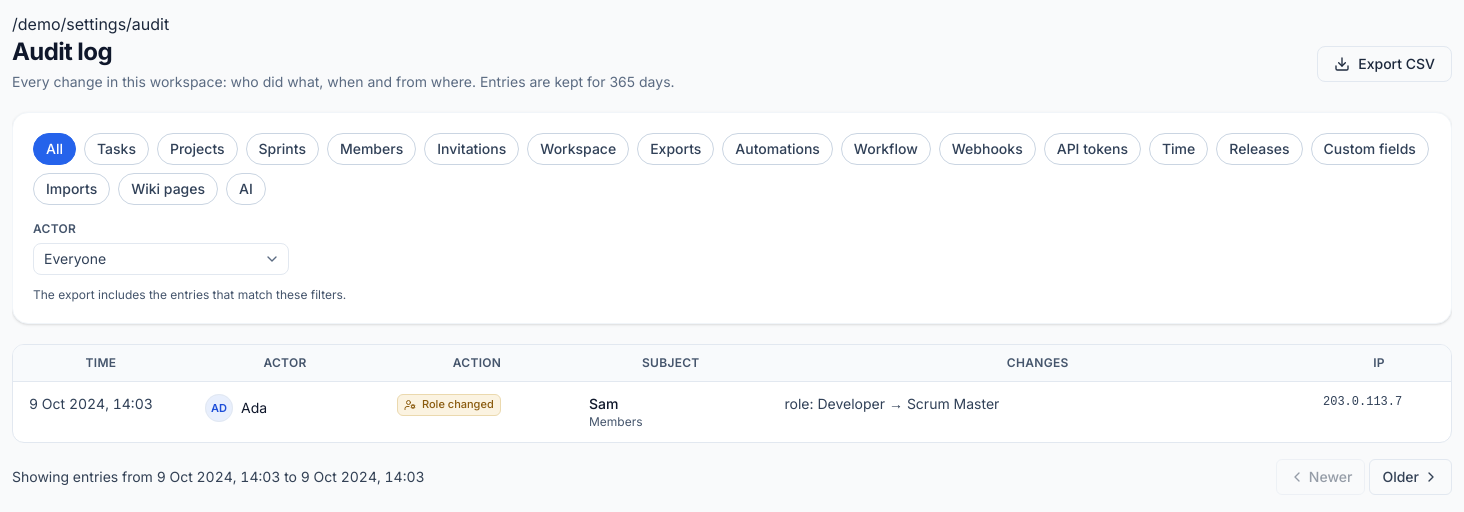
it: AuditLogPage › walks to older entries with the cursor and back to newer ones
The image size is (1464, 512).
Expected: the button "Newer" is disabled, top-left (1276, 459), bottom-right (1365, 495)
Click the button "Older". click: click(1411, 477)
box: top-left (1369, 459), bottom-right (1452, 495)
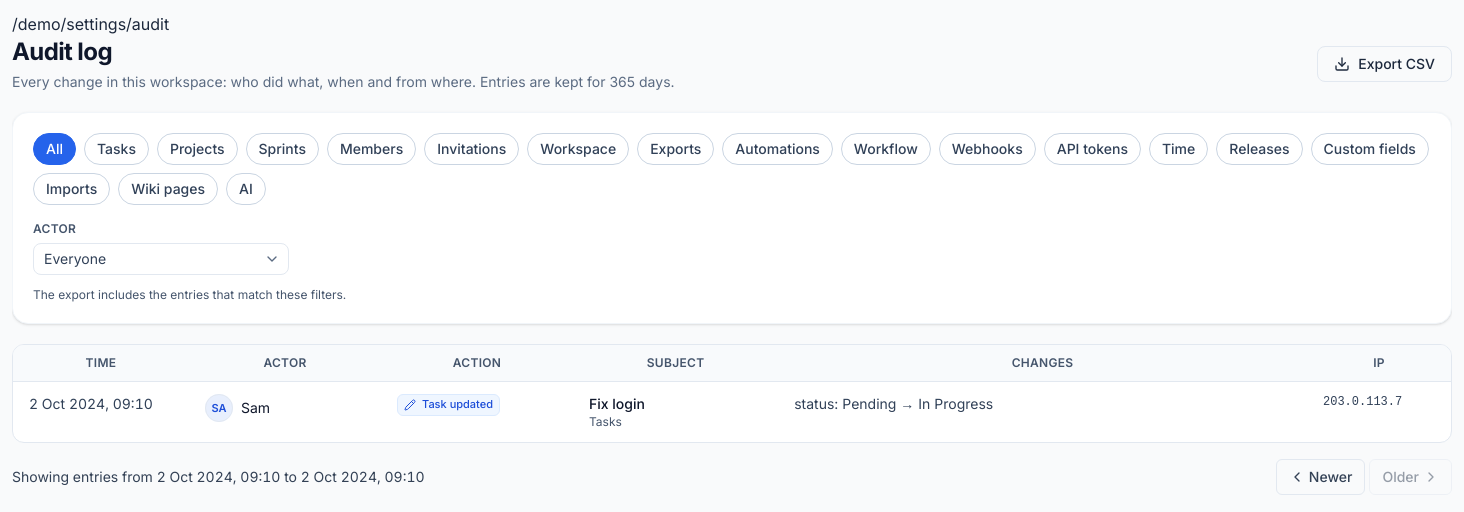
Now the text "Fix login" is shown, box top-left (589, 395), bottom-right (645, 412)
Now the button "Older" is disabled, box top-left (1369, 459), bottom-right (1452, 495)
Now the text "Showing entries from 2 Oct 2024, 09:10 to 2 Oct 2024, 09:10" is shown, box top-left (12, 467), bottom-right (425, 487)
Click the button "Newer". click: click(1321, 477)
box: top-left (1276, 459), bottom-right (1365, 495)
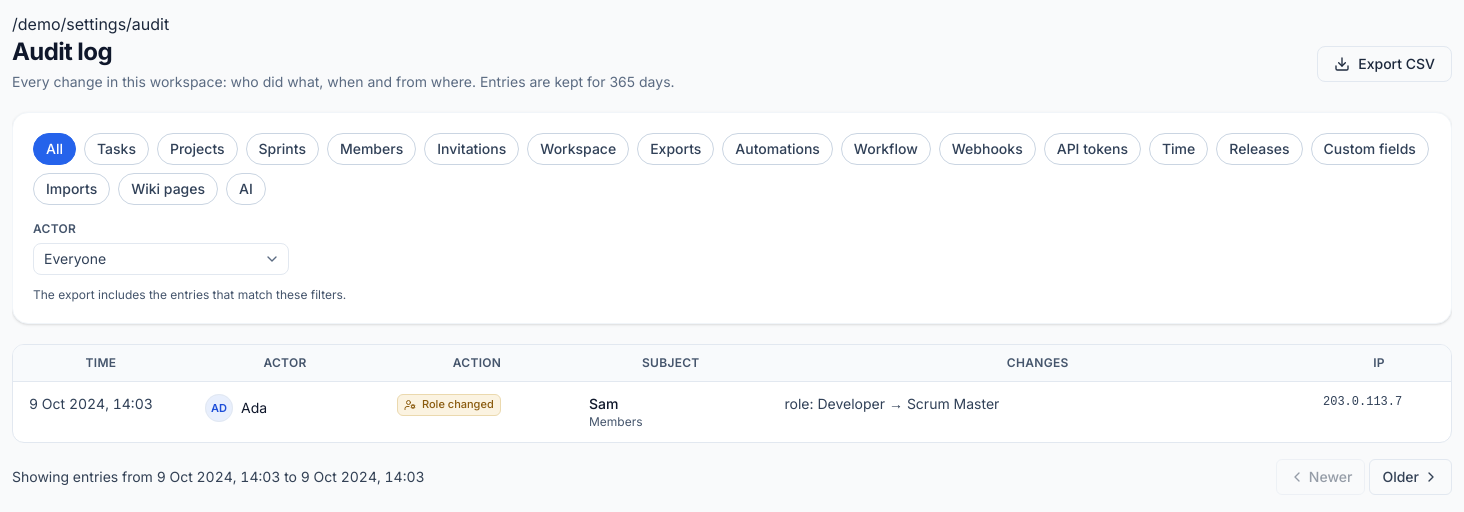
Now the text "Sam" is shown, box top-left (589, 395), bottom-right (618, 412)
